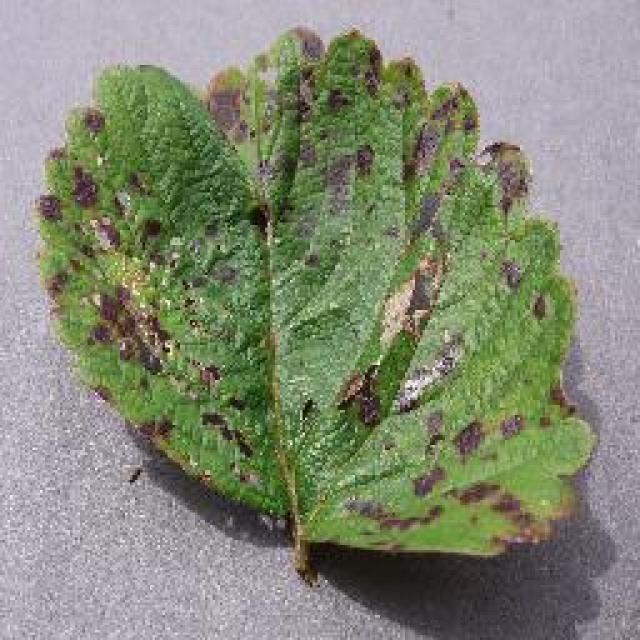Strawberry leaf scorch: (71, 107, 512, 478)
